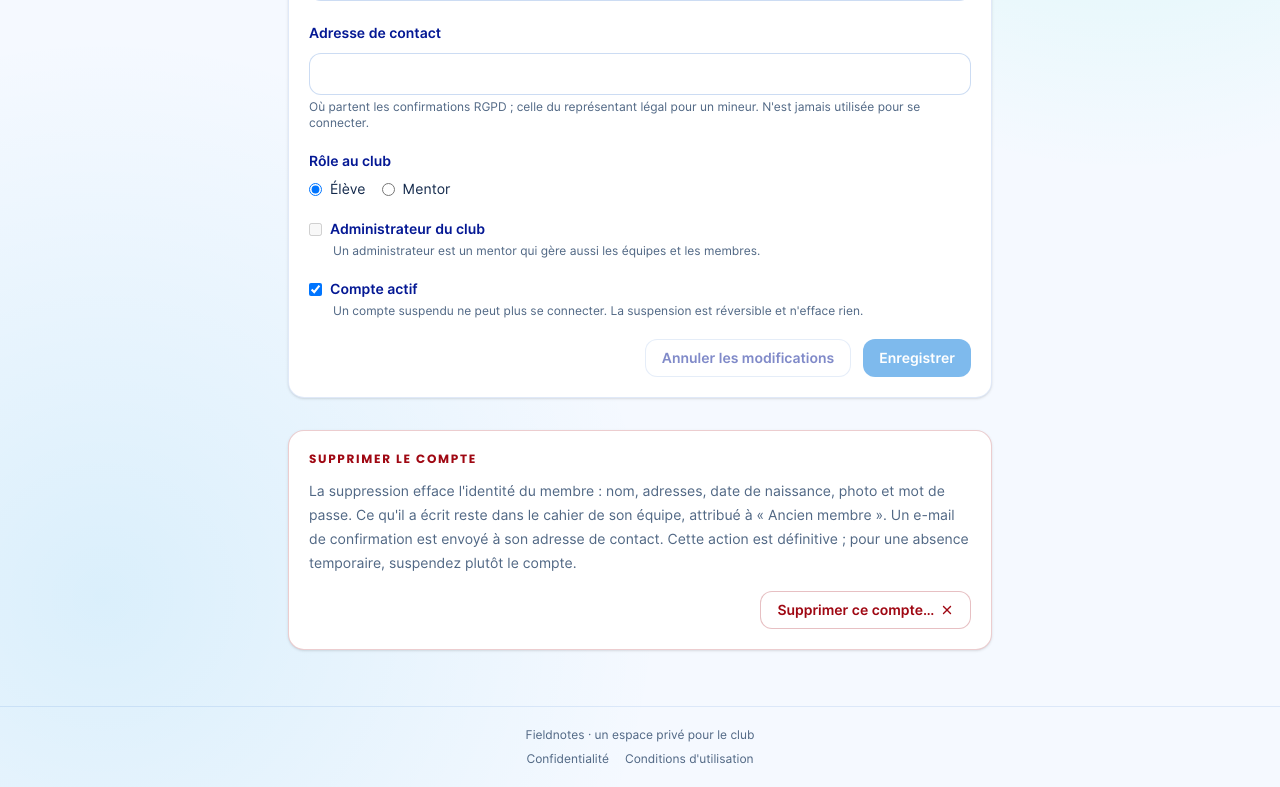
Scenario: deletes a member only after confirming, then returns to the list
This screenshot has width=1280, height=787.
(page scrolled)
Step 1. Click the button "Supprimer ce compte…" → (866, 610), box [760, 591, 971, 629]
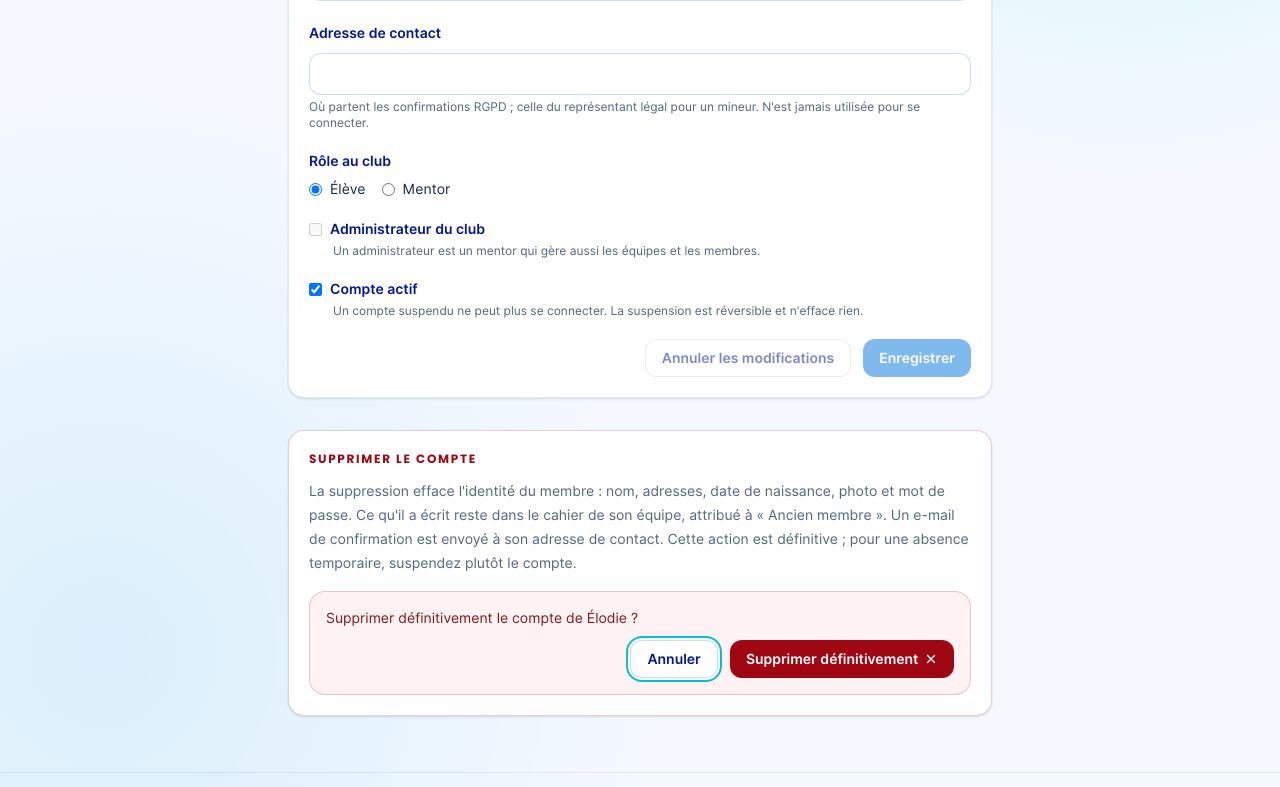
Step 2. Click the button "Supprimer définitivement" → (842, 659), box [730, 640, 954, 678]
(page scrolled)
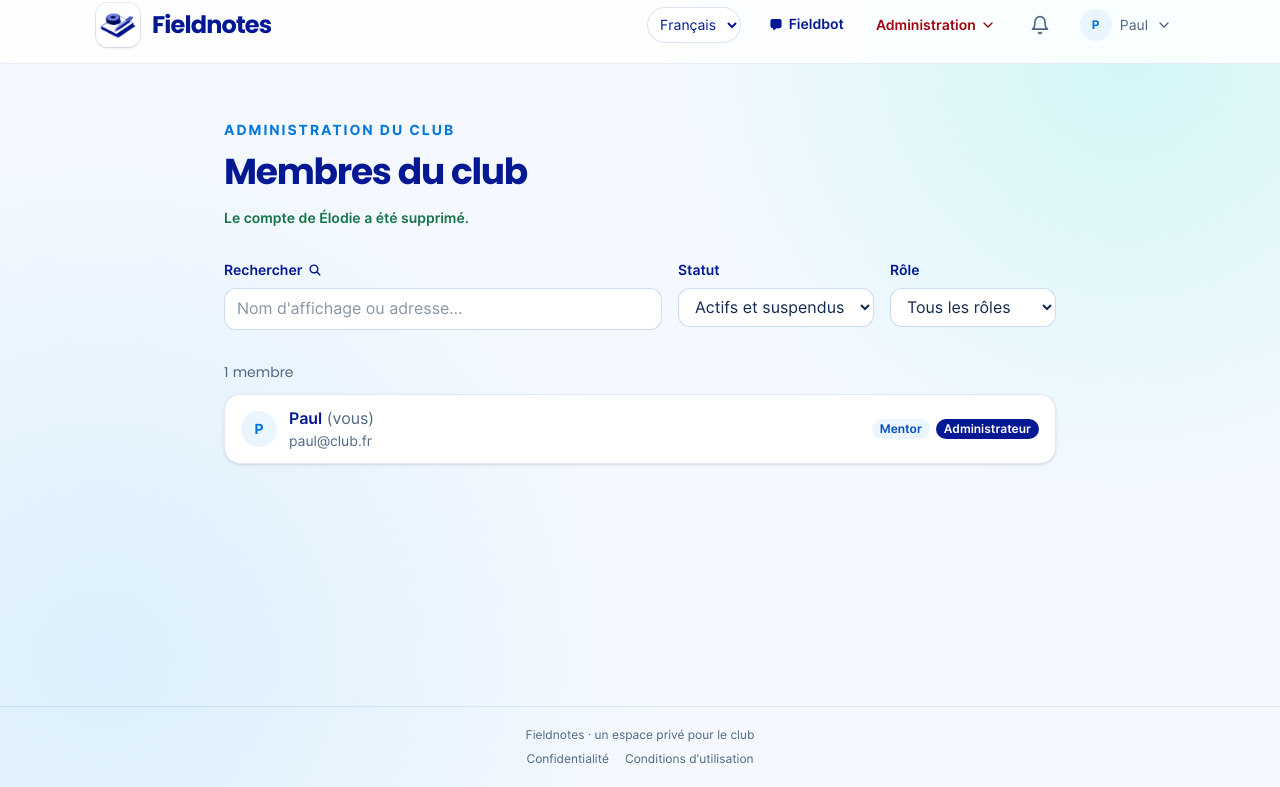
Expected: the text "Le compte de Élodie a été supprimé." is shown, [224, 210, 469, 226]
